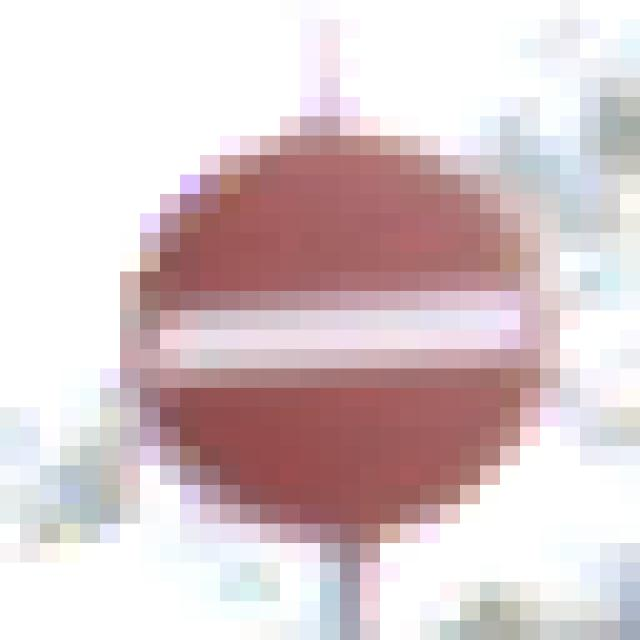No Entry: (121, 117, 541, 544)
